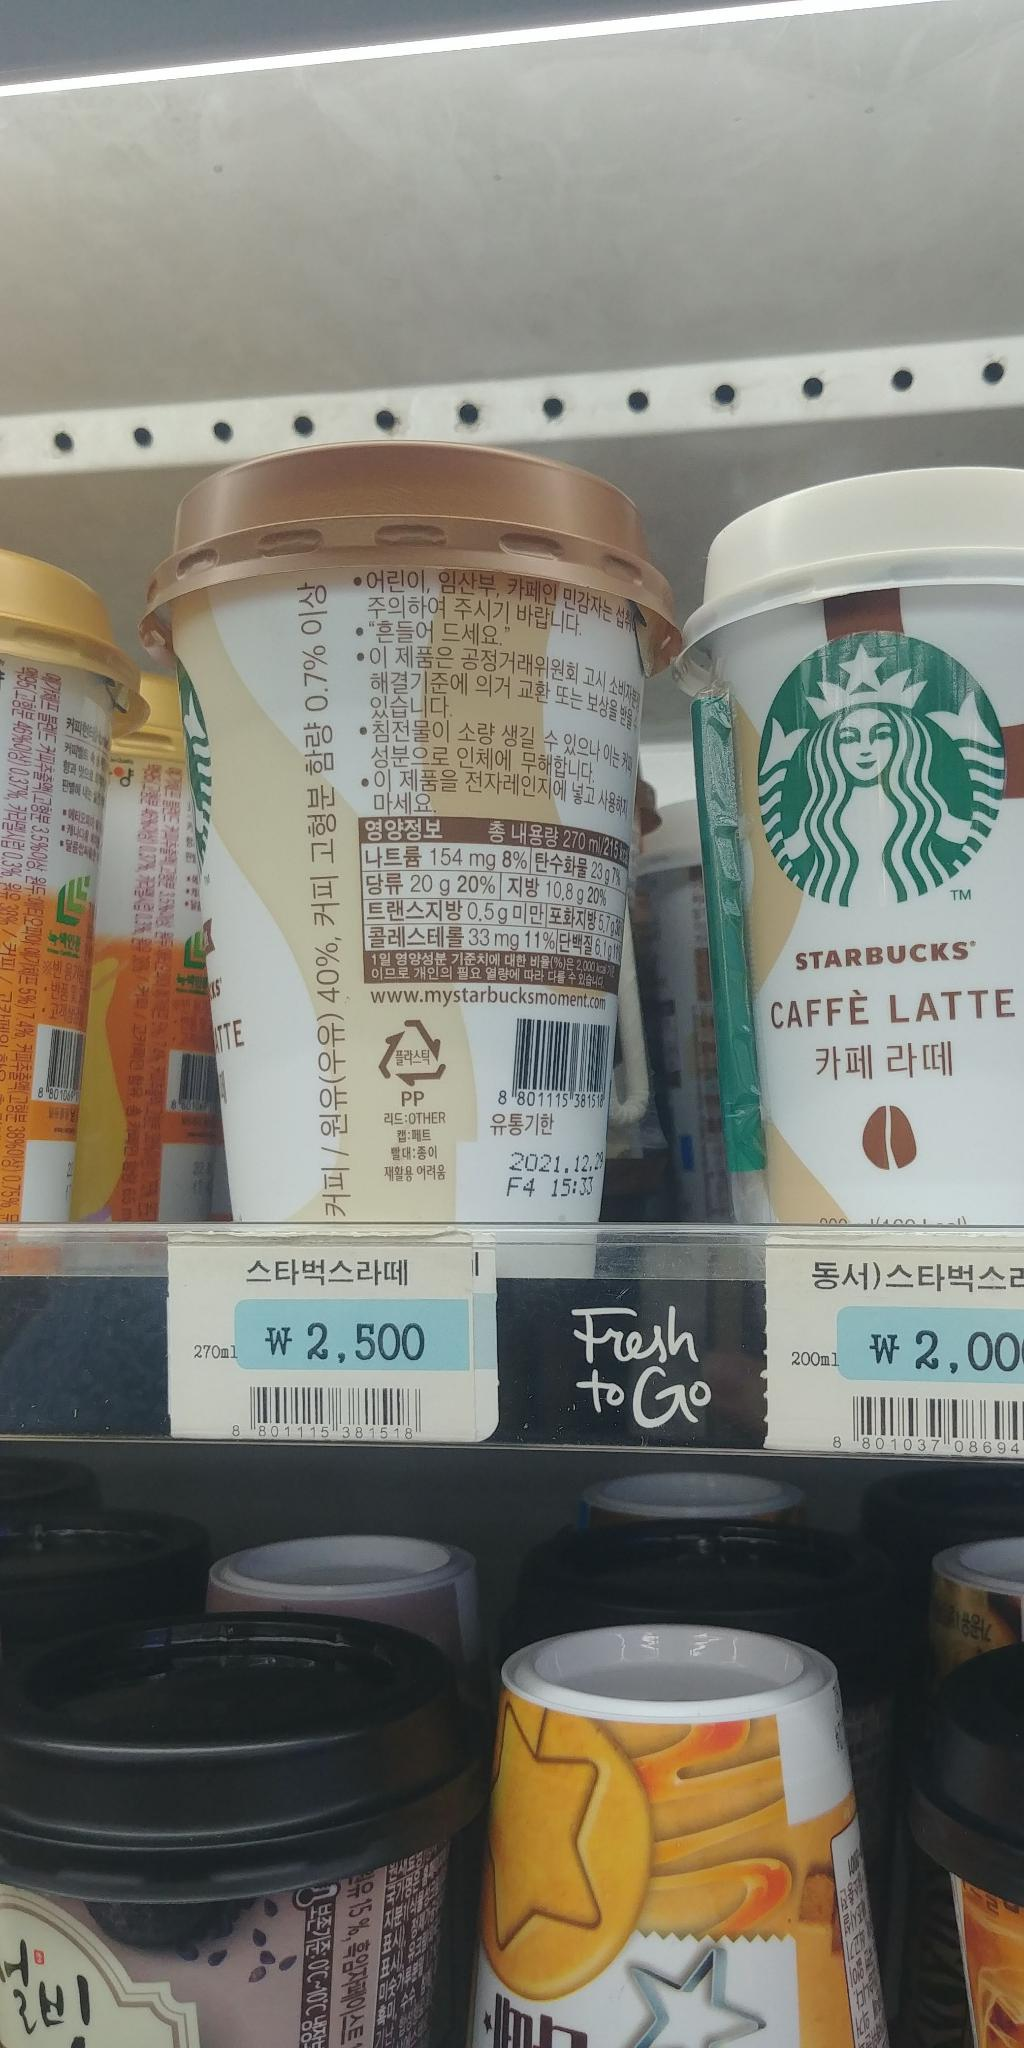starbucks_cafelatte: (166, 438, 660, 1292)
